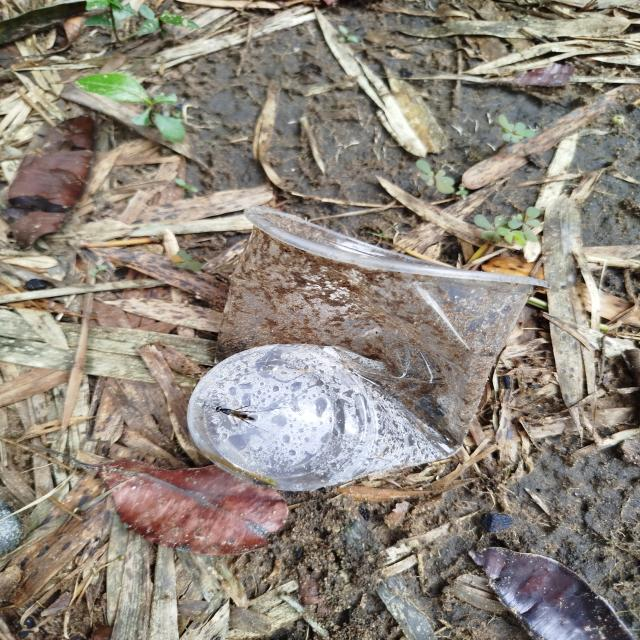plastic: (177, 189, 544, 506)
